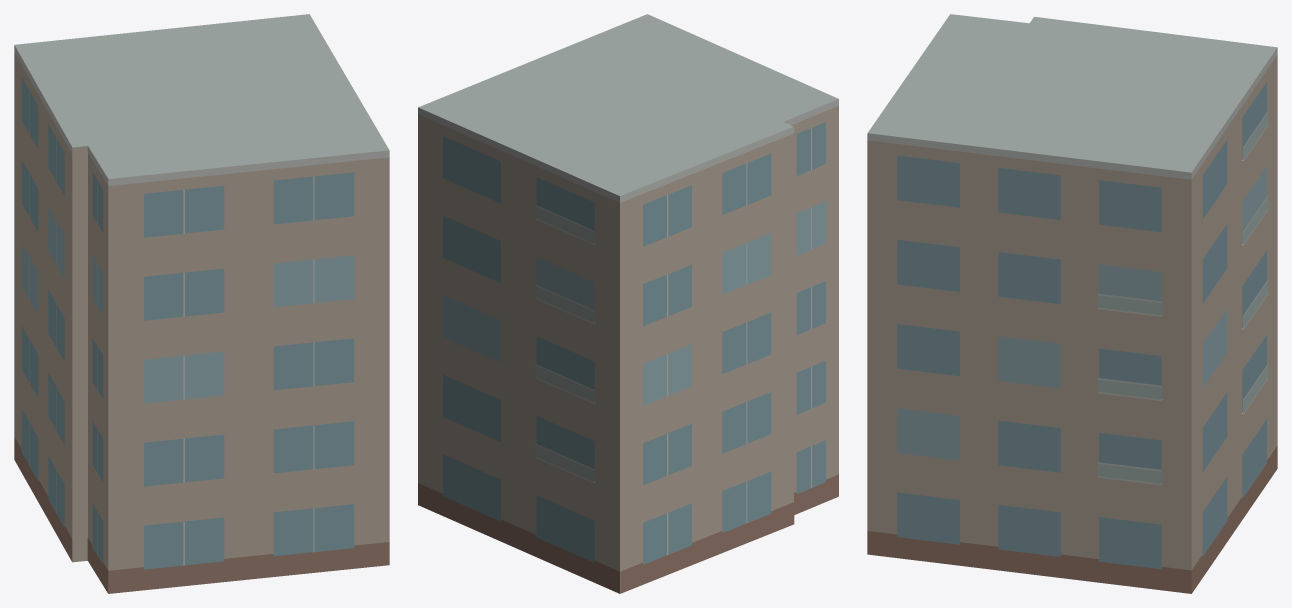
File: survey-upis-32869185.glb
The picture shows the model from 3 angles, left to right: view 1: azimuth 30°, elevation 25°; view 2: azimuth 150°, elevation 25°; view 3: azimuth 270°, elevation 25°; orthographic projection. The views are drawn at different scales.
Parts seen in each view (by area): view 1: survey-upis-32869185.tmp; view 2: survey-upis-32869185.tmp; view 3: survey-upis-32869185.tmp.
Boxes of the visible parts, left/top/right/bottom form: survey-upis-32869185.tmp: left=14, top=14, right=389, bottom=593; survey-upis-32869185.tmp: left=418, top=14, right=838, bottom=593; survey-upis-32869185.tmp: left=867, top=14, right=1277, bottom=593.
Bounding box in the file's own units: 11.64 × 14.4 × 12.72.
